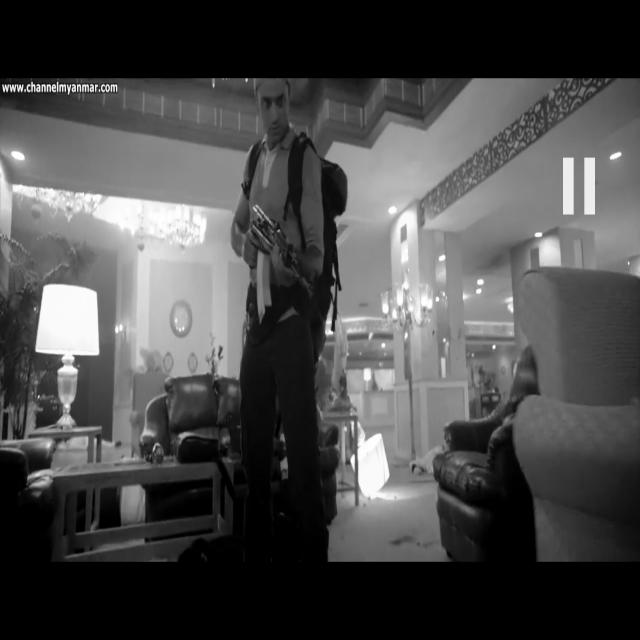gun: (251, 204, 315, 326)
